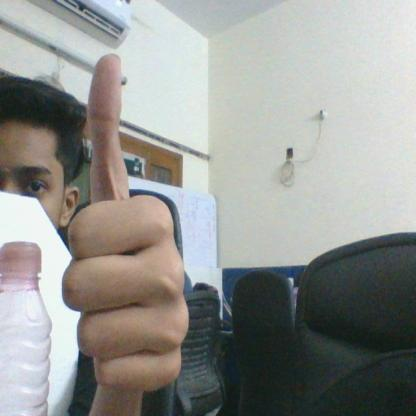thumbs-up: (60, 54, 193, 389)
